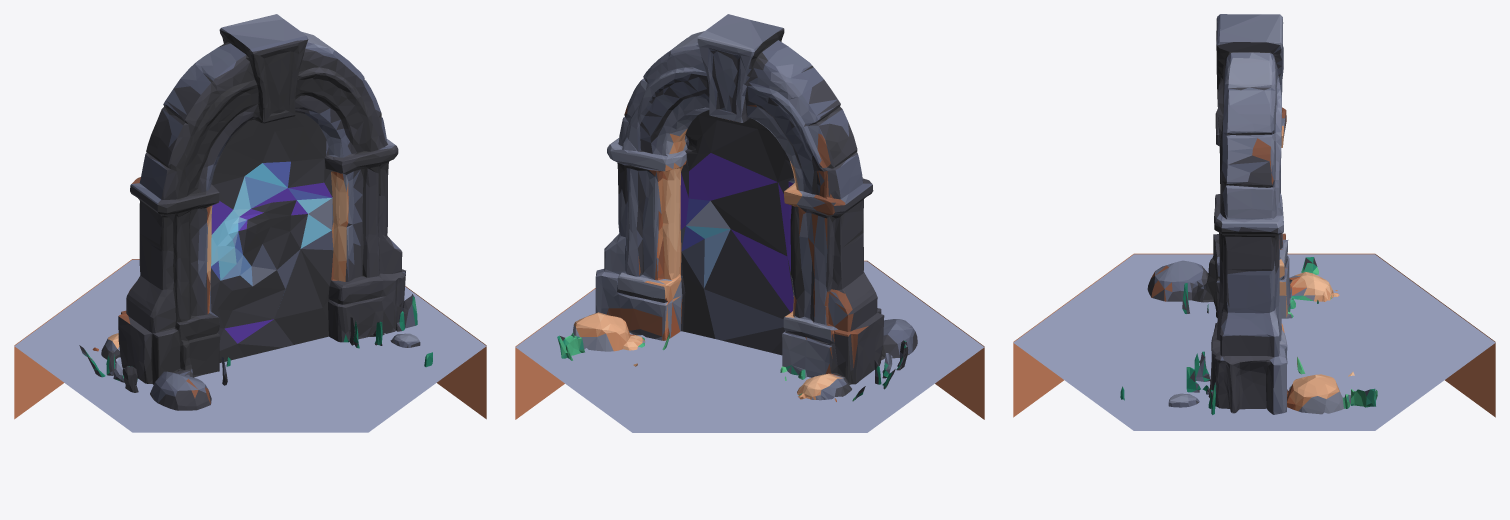
Rendered from once-in-a-lifetime-portal.glb.
The picture shows the model from 3 angles, left to right: view 1: azimuth 30°, elevation 25°; view 2: azimuth 150°, elevation 25°; view 3: azimuth 270°, elevation 25°; orthographic projection. The views are drawn at different scales.
Parts seen in each view (by area): view 1: world, hexBase; view 2: world, hexBase; view 3: hexBase, world.
Boxes of the visible parts, x1,y1,x2,y2 form: world: (79, 14, 432, 410); hexBase: (14, 259, 486, 432); world: (557, 14, 917, 401); hexBase: (515, 260, 984, 432); hexBase: (1013, 253, 1495, 430); world: (1120, 14, 1377, 414).
Size of the model in its own units: 1 by 1.04 by 1.15.
3 materials, 3 textured.
